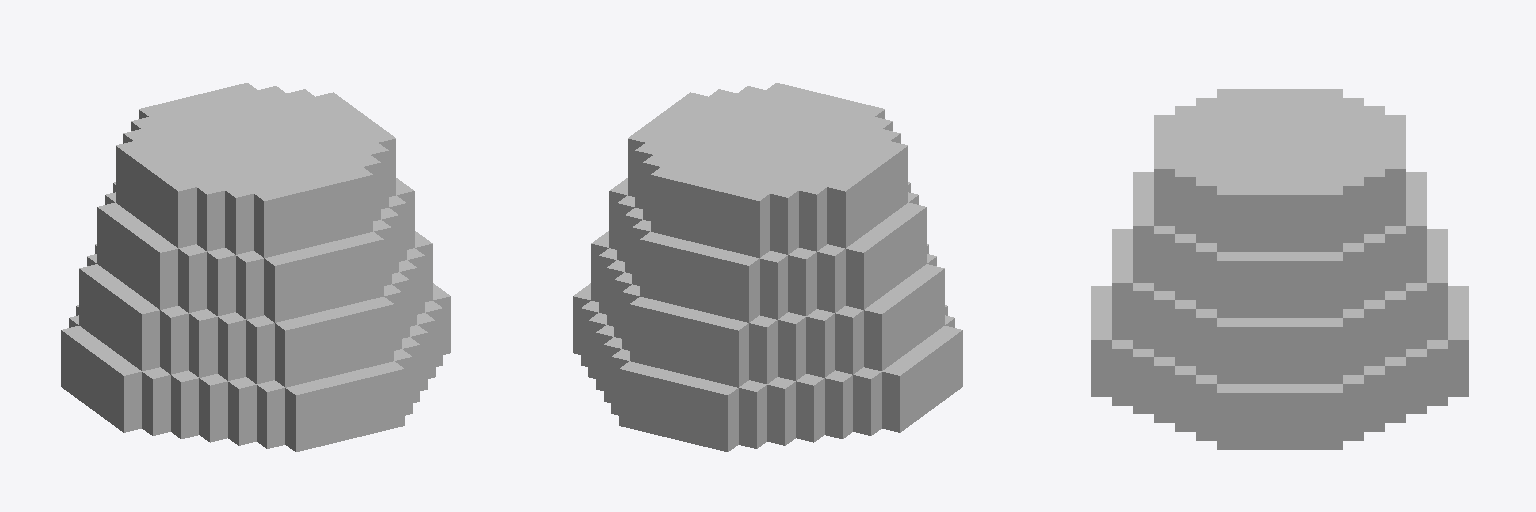
Rendered from Checkpoint.obj.
3 views of the same model, side by side, from view 1: azimuth 30°, elevation 25°; view 2: azimuth 150°, elevation 25°; view 3: azimuth 270°, elevation 25° (orthographic).
Parts seen in each view (by area): view 1: object 1; view 2: object 1; view 3: object 1.
Part boxes in pixels (x1,y1,x2,y2): object 1: (61, 83, 450, 451); object 1: (573, 83, 962, 451); object 1: (1091, 89, 1468, 449).
Size of the model in its own units: 1.8 by 1.2 by 1.8.